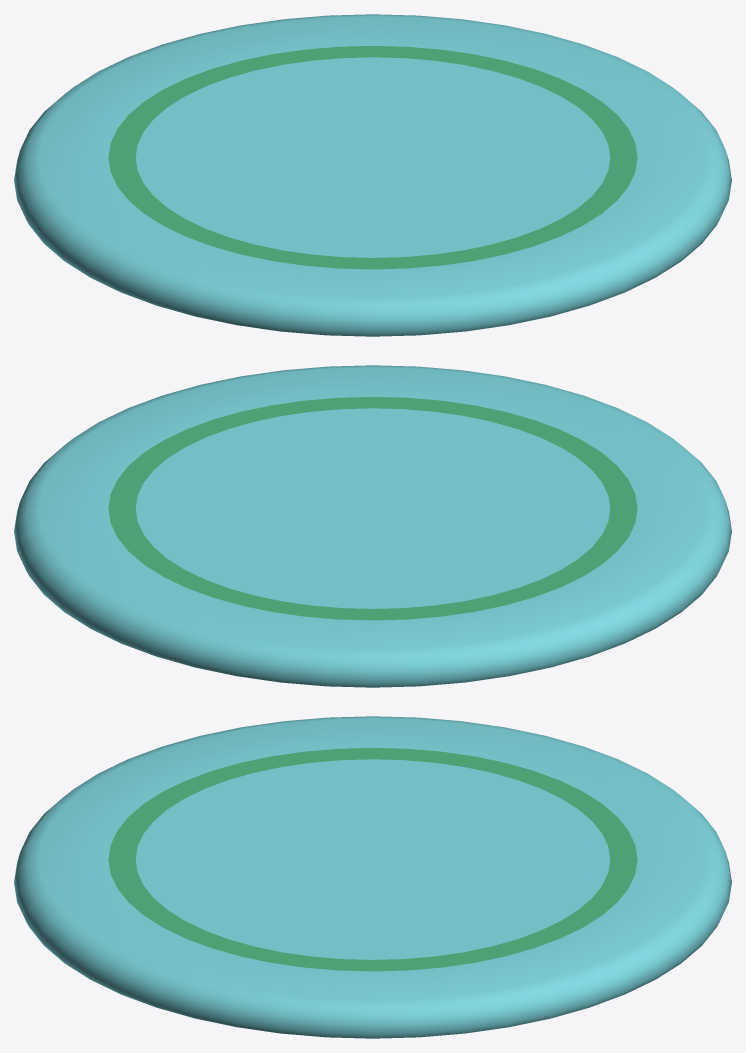
File: Bath_Prop_28.glb
The picture shows the model from 3 angles, top to bottom: view 1: azimuth 30°, elevation 25°; view 2: azimuth 150°, elevation 25°; view 3: azimuth 270°, elevation 25°; orthographic projection.
Visible parts, largest first — view 1: Bath_Prop_28; view 2: Bath_Prop_28; view 3: Bath_Prop_28.
Part boxes in pixels (bbox=[...]): Bath_Prop_28: bbox=[14, 14, 731, 336]; Bath_Prop_28: bbox=[14, 365, 731, 687]; Bath_Prop_28: bbox=[14, 716, 731, 1038].
Bounding box in the file's own units: 0.66 × 0.029 × 0.66.
Materials: 1 (1 with a texture image).
